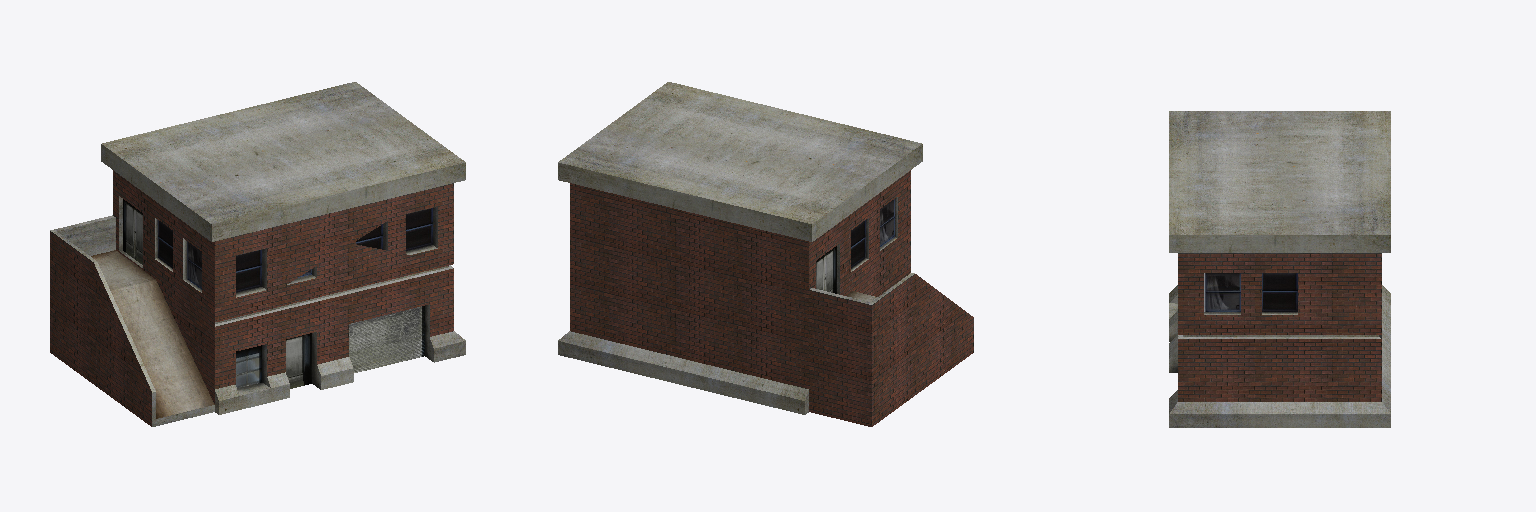
3 views of the same model, side by side, from view 1: azimuth 30°, elevation 25°; view 2: azimuth 150°, elevation 25°; view 3: azimuth 270°, elevation 25° (orthographic).
Visible parts, largest first — view 1: house2; view 2: house2; view 3: house2.
Part boxes in pixels (x1,y1,x2,y2): house2: (50, 82, 465, 426); house2: (558, 82, 973, 426); house2: (1169, 111, 1390, 427).
Bounding box in the file's own units: 584 × 347 × 361.
2 materials, 1 textured.